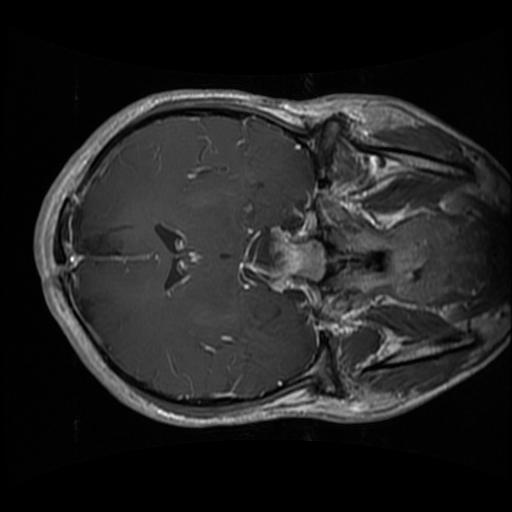glioma: (72, 203, 132, 264)
